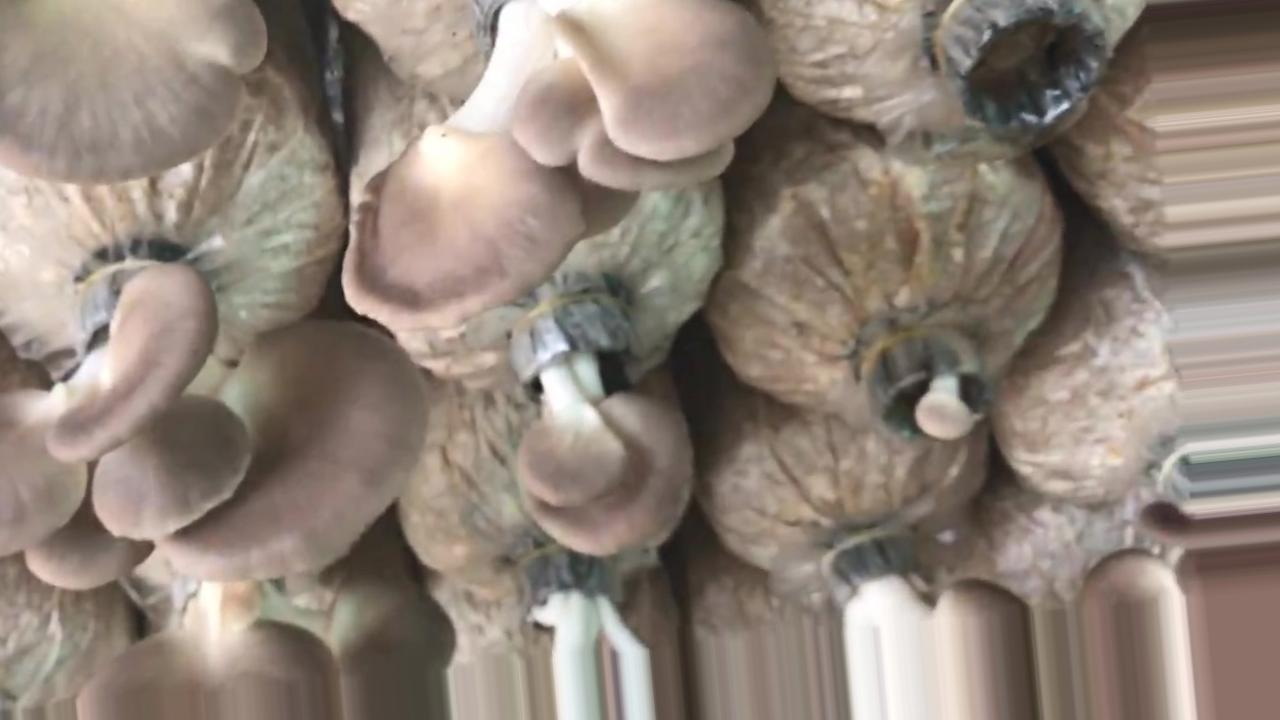nam: (343, 1, 780, 329), (1, 266, 424, 591), (76, 578, 456, 720), (516, 285, 696, 551), (1, 1, 264, 181), (1080, 506, 1278, 720), (840, 530, 1036, 720), (871, 330, 1002, 438)
